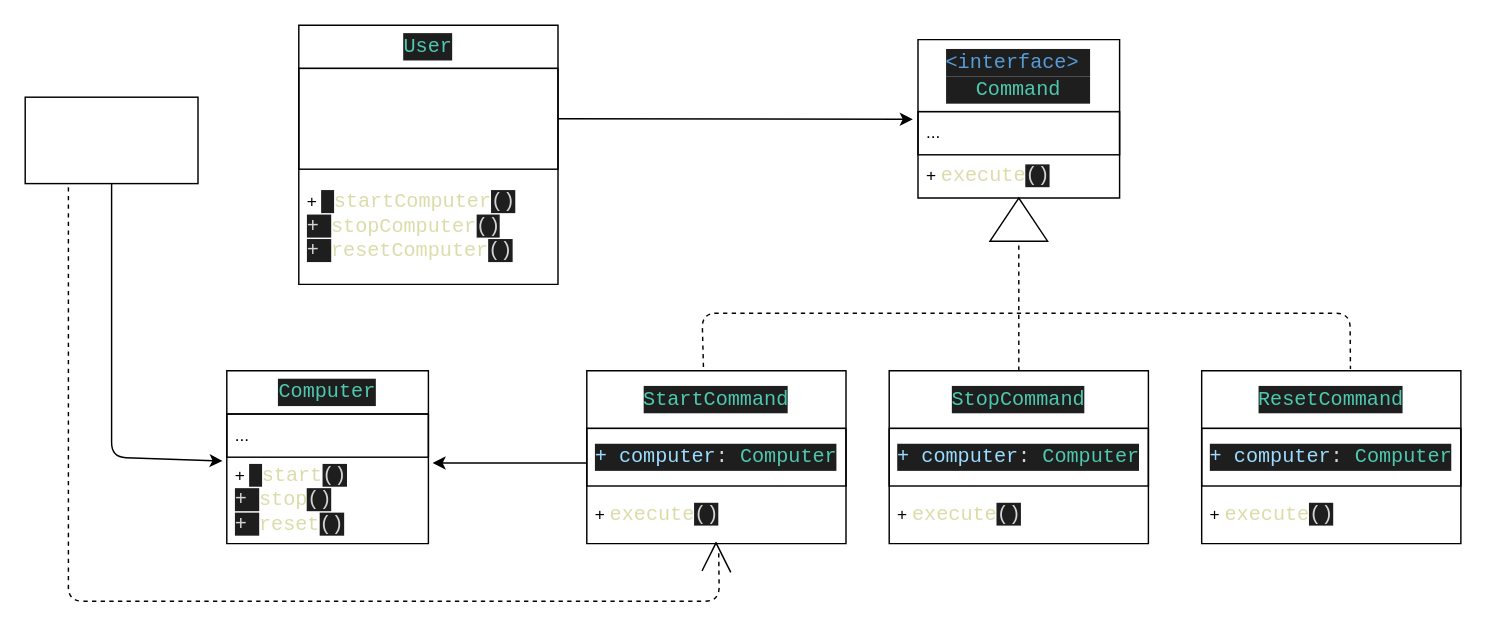
The diagram is 1486 pixels wide and 628 high, and some of its shapes have lost their labels. Here are the shapes that lost their labels. From the top down, the centre of each, then its label:
At pixel 427 118: "+ start : Command + stop : Command + reset : Command".
At pixel 111 140: "Client".
